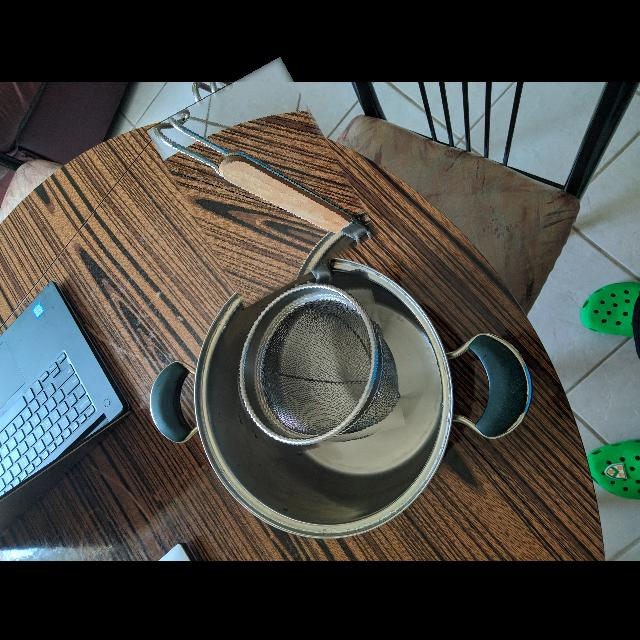Handle: (146, 105, 378, 248)
Strainer: (234, 282, 383, 448)
